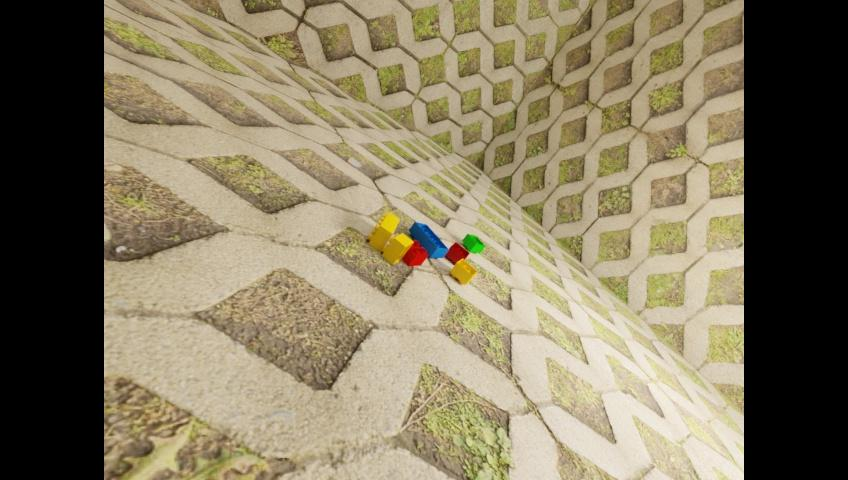2x2_green: (462, 234, 484, 253)
2x2_red: (403, 239, 428, 266), (445, 241, 469, 264)
2x2_yellow: (381, 233, 412, 264), (449, 258, 476, 284)
4x2_blue: (408, 221, 448, 258)
4x2_yellow: (367, 211, 398, 251)
